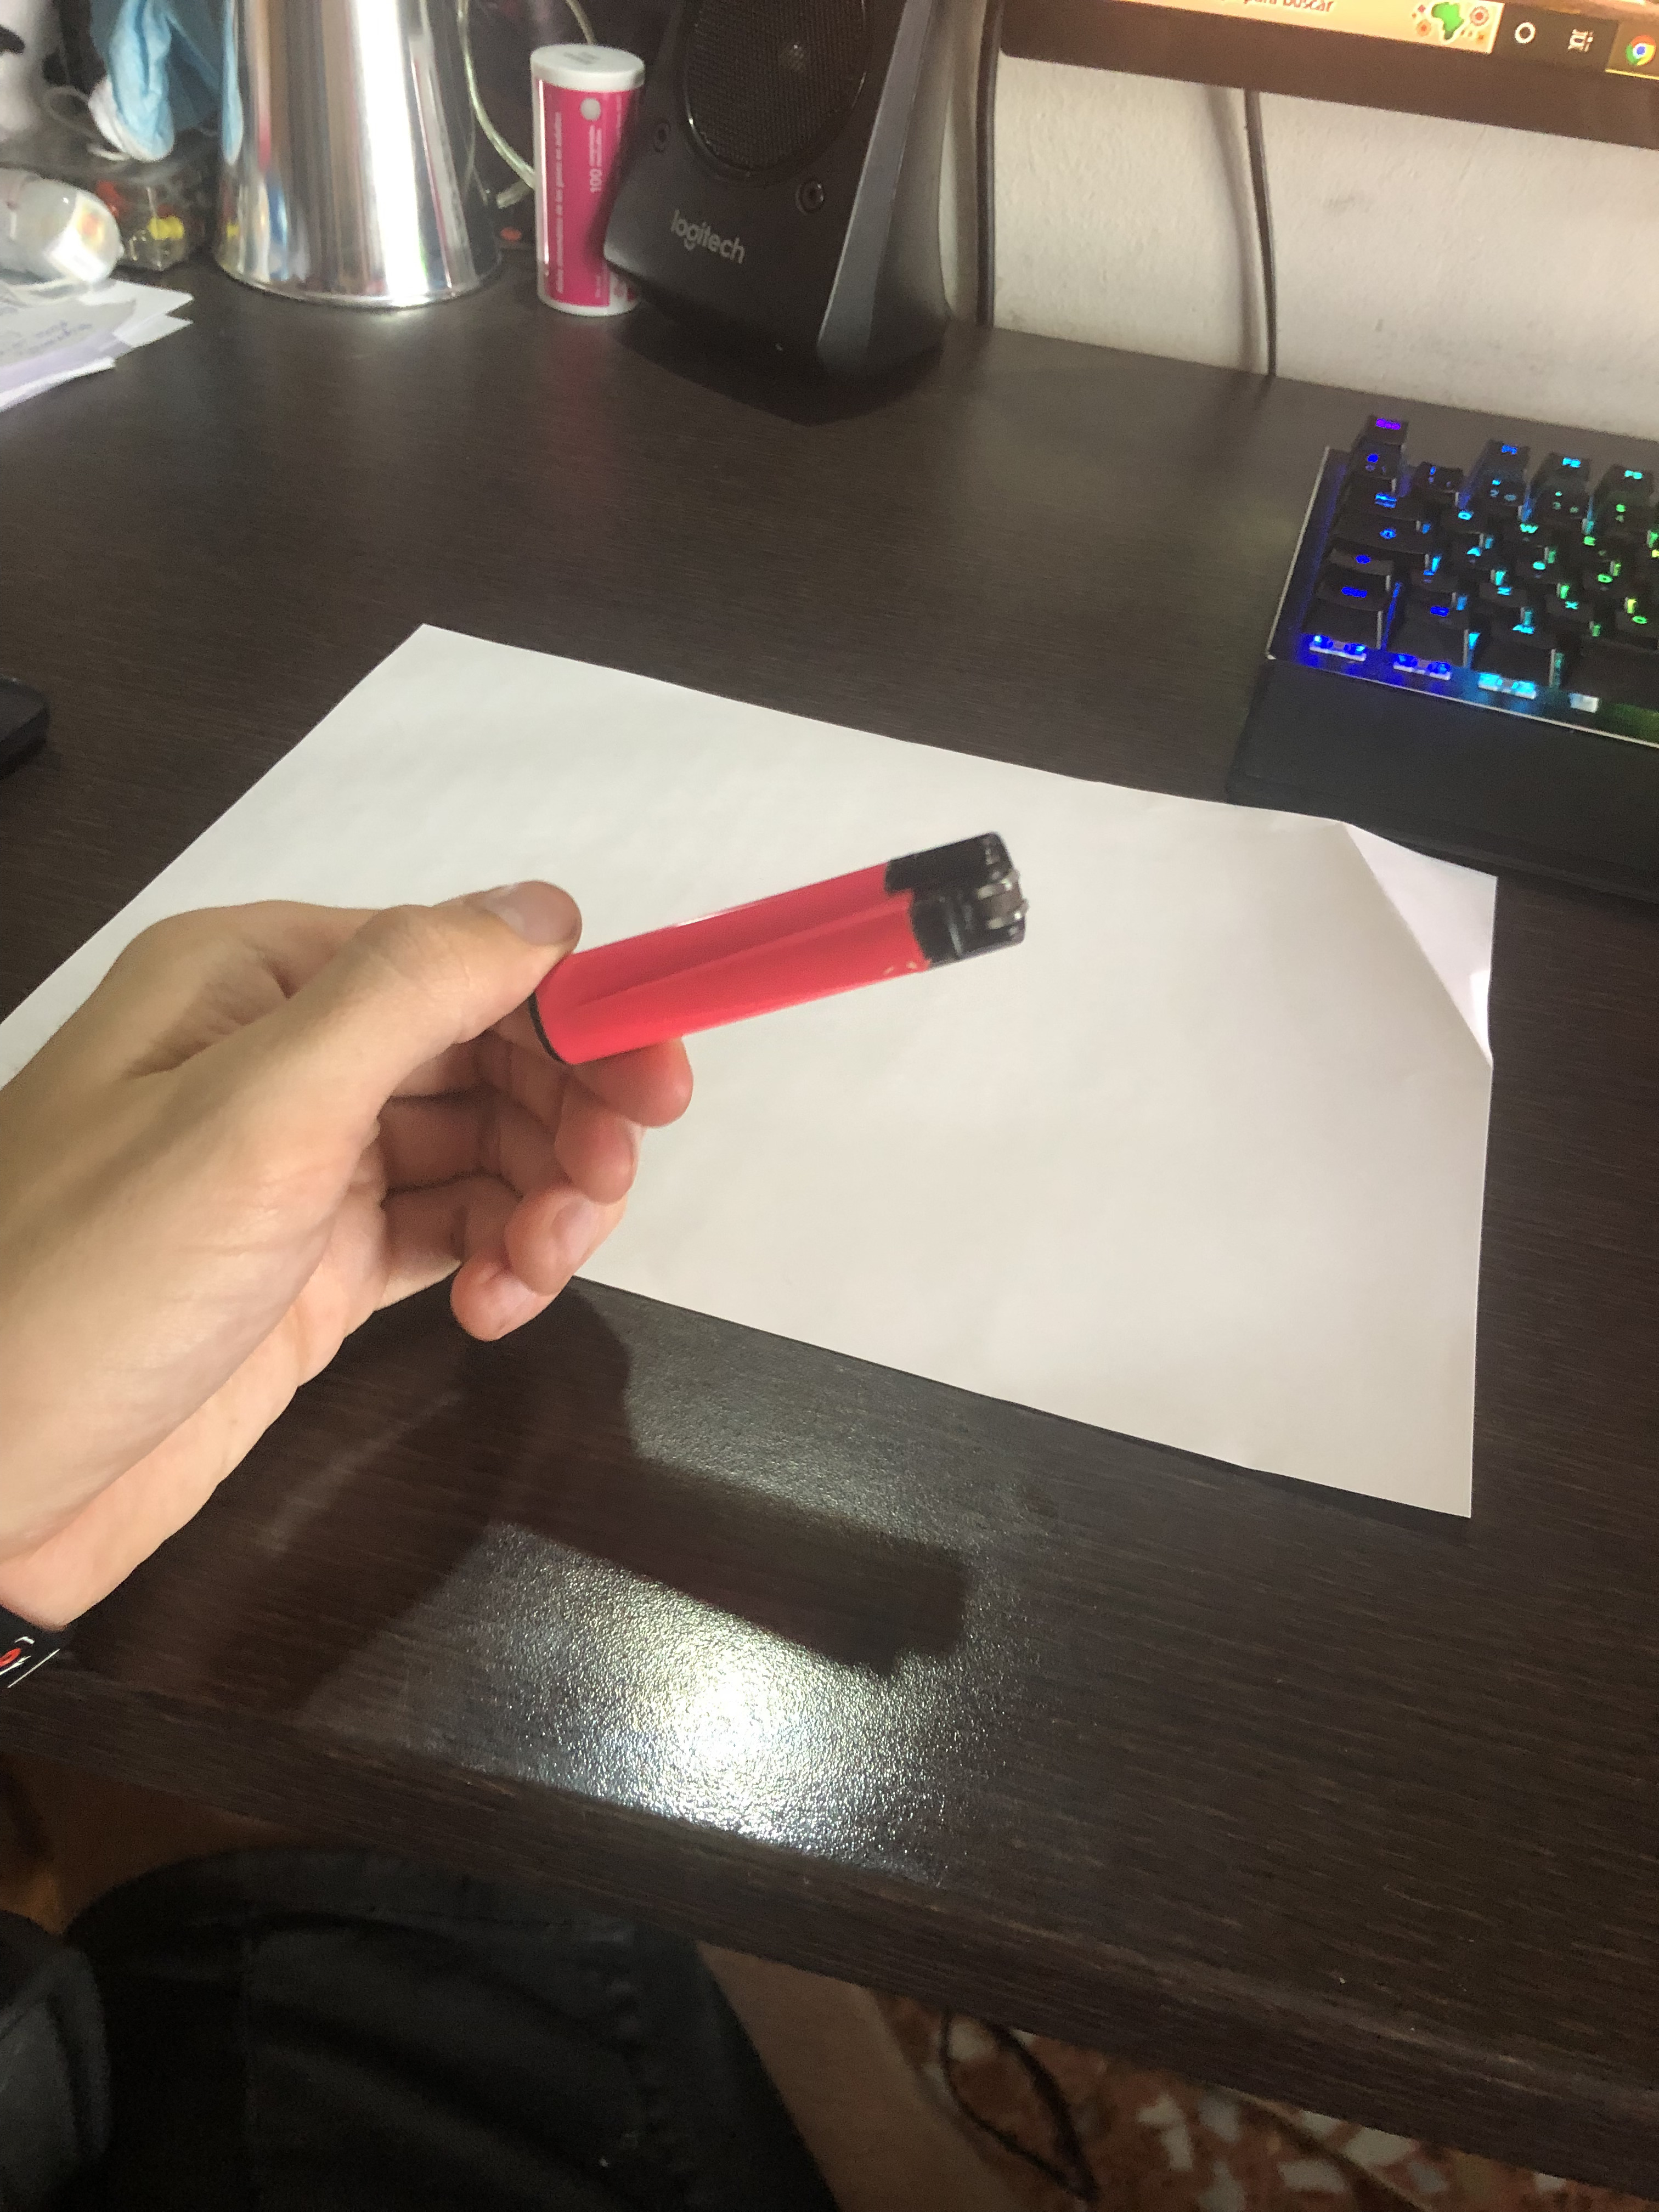Mechero: (516, 798, 1060, 1109)
